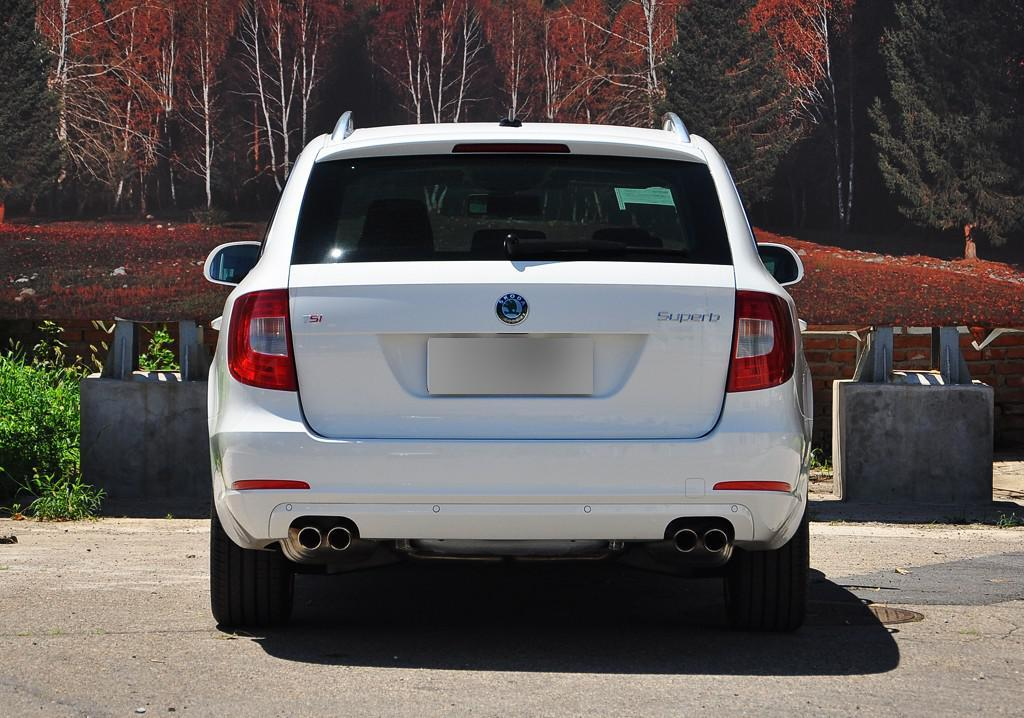Wagon: (207, 108, 814, 619)
